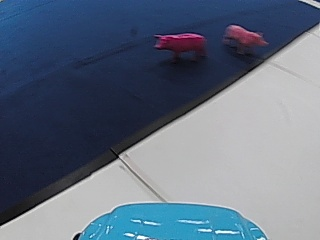pig: (152, 28, 207, 65), (221, 21, 268, 57)
